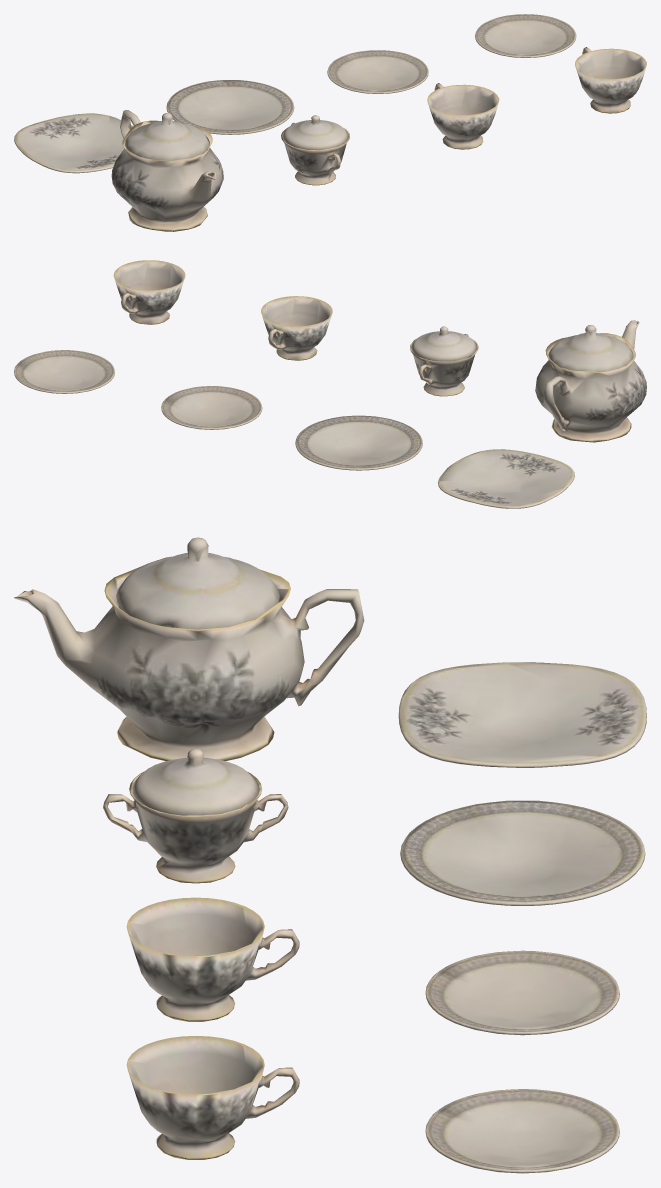
Rendered from tea_set.glb.
The picture shows the model from 3 angles, top to bottom: view 1: azimuth 30°, elevation 25°; view 2: azimuth 150°, elevation 25°; view 3: azimuth 270°, elevation 25°; orthographic projection. The views are drawn at different scales.
Visible parts, largest first — view 1: tea_set_01_plate_large_square_01; view 2: tea_set_01_plate_large_square_01; view 3: tea_set_01_plate_large_square_01.
Boxes of the visible parts, x1,y1,x2,y2 form: tea_set_01_plate_large_square_01: (14,14,646,231); tea_set_01_plate_large_square_01: (14,260,646,508); tea_set_01_plate_large_square_01: (14,537,646,1173).
Size of the model in its own units: 0.9183 by 0.1647 by 0.4839.
Materials: 1 (1 with a texture image).
